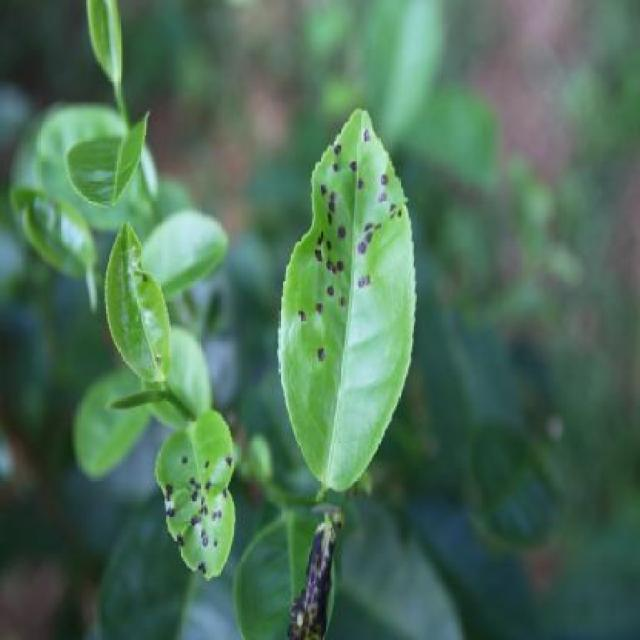Tea Mosquito bug infested leaf: (277, 100, 414, 482), (160, 406, 243, 580)
